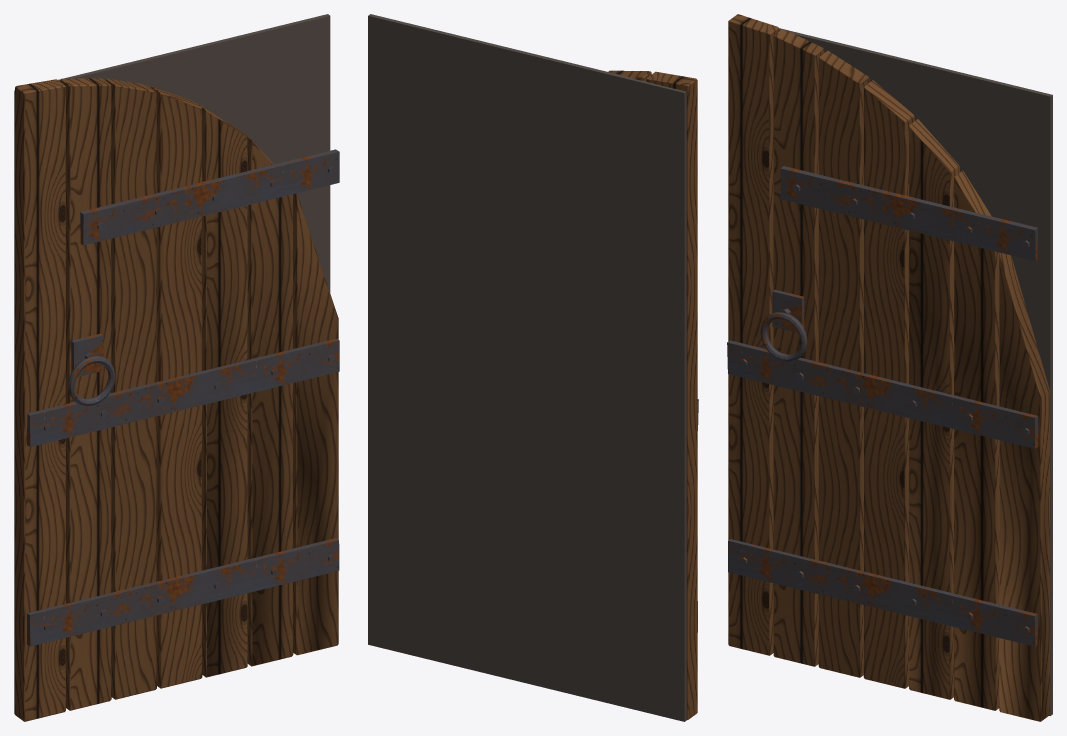
Rendered from Gate_Door_R.glb.
The picture shows the model from 3 angles, left to right: view 1: azimuth 30°, elevation 25°; view 2: azimuth 150°, elevation 25°; view 3: azimuth 330°, elevation 25°; orthographic projection.
Parts seen in each view (by area): view 1: Gate_Door_R; view 2: Gate_Door_R; view 3: Gate_Door_R.
Part boxes in pixels (bbox=[...]): Gate_Door_R: bbox=[14, 14, 339, 721]; Gate_Door_R: bbox=[368, 14, 698, 721]; Gate_Door_R: bbox=[727, 14, 1052, 721].
Bounding box in the file's own units: 1.49 × 2.84 × 0.155.
3 materials, 2 textured.
